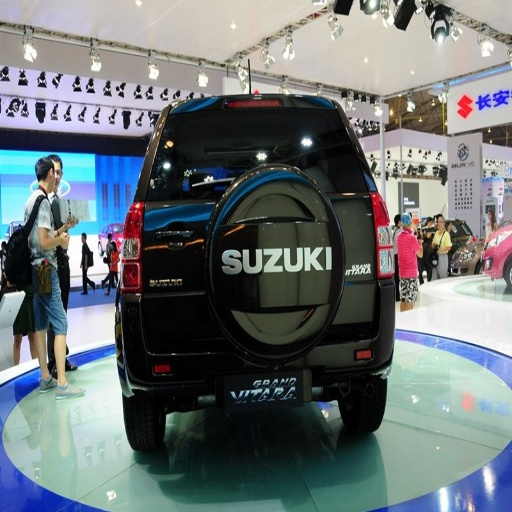back_bumper: (116, 299, 399, 393)
tailgate: (219, 259, 338, 337)
trunk: (150, 171, 375, 330)
